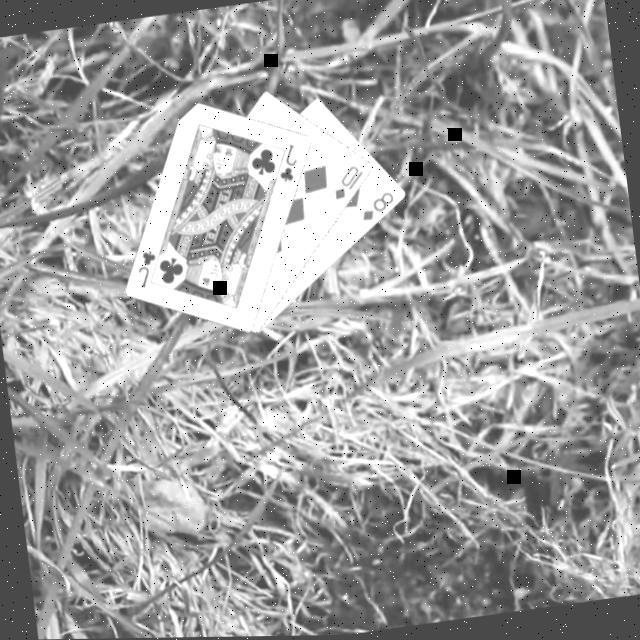10D: (329, 164, 369, 205)
8D: (357, 190, 401, 228)
JC: (274, 141, 305, 188), (133, 248, 164, 293)
